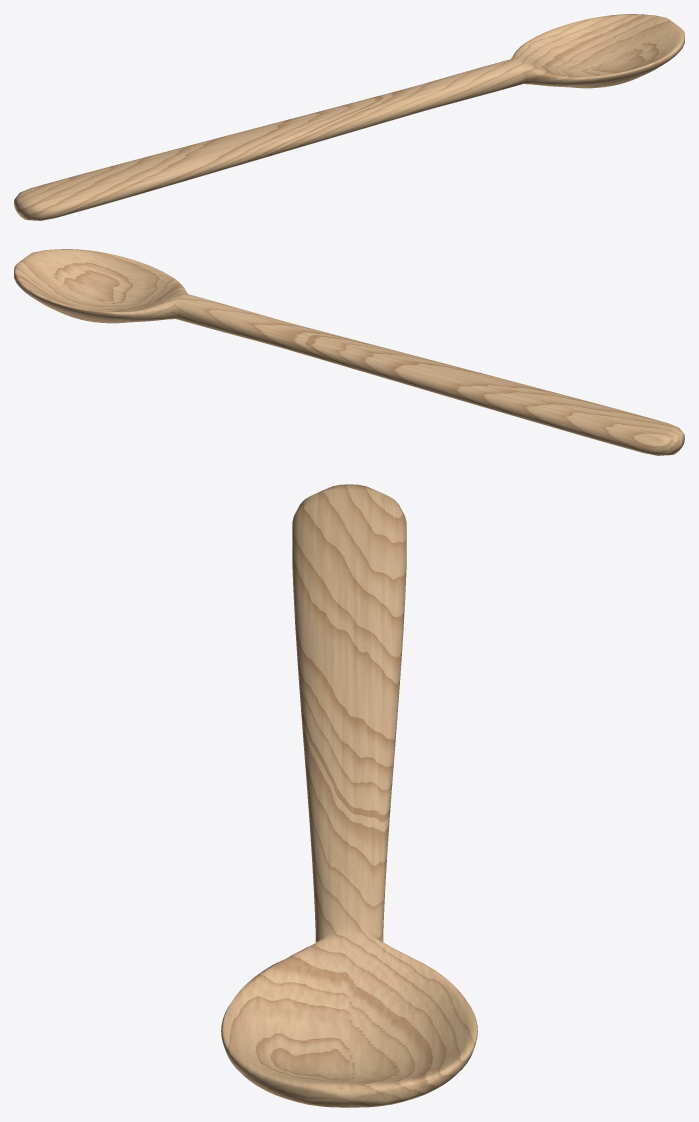
The picture shows the model from 3 angles, top to bottom: view 1: azimuth 30°, elevation 25°; view 2: azimuth 150°, elevation 25°; view 3: azimuth 270°, elevation 25°; orthographic projection. The views are drawn at different scales.
Parts seen in each view (by area): view 1: Wooden spoon; view 2: Wooden spoon; view 3: Wooden spoon.
Part boxes in pixels (box(x1,y1,x2,y2)): Wooden spoon: box(14, 14, 684, 220); Wooden spoon: box(14, 249, 684, 455); Wooden spoon: box(221, 484, 477, 1107).
Bounding box in the file's own units: 0.2799 × 0.0151 × 0.0471.
1 material, 1 textured.
